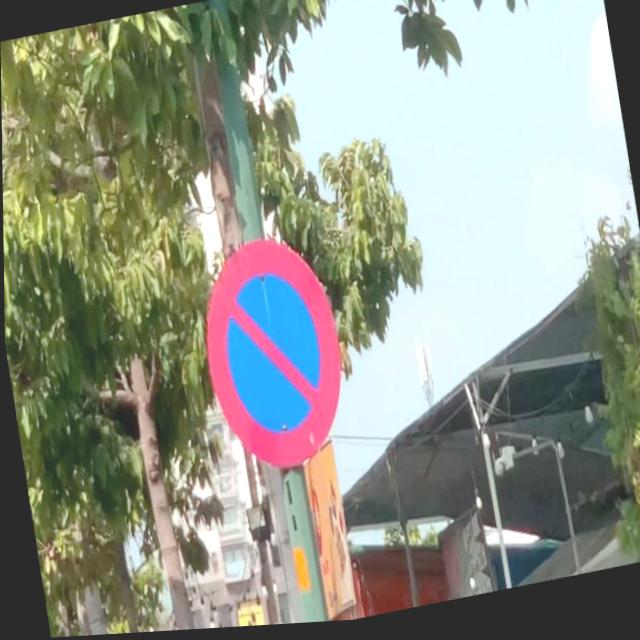Cam do xe: (189, 228, 358, 488)
